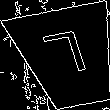L_S: (42, 29, 95, 86)
